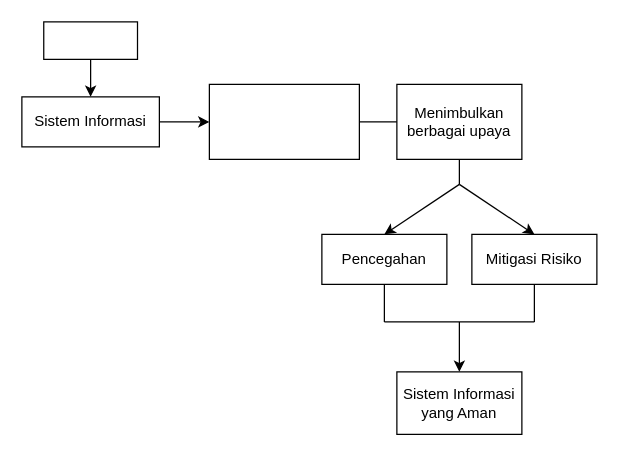
This 619x456 diagram has some shape labels left out. The shapes that lost their labels are listed below. From the top down, each one's centre as x and y in pixels, then its label:
At (90,40): "Data".
At (283,121): "Ancaman Kebocoran Data".
